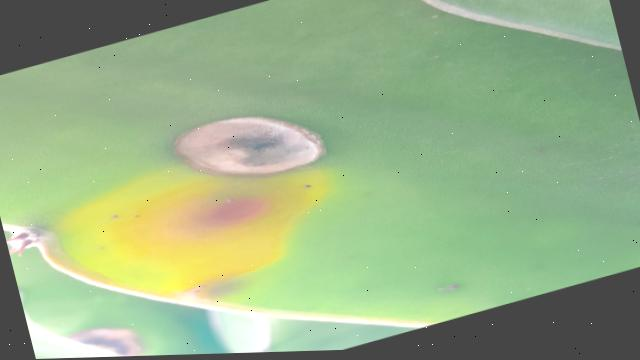stemcanker: (58, 164, 331, 301), (171, 116, 330, 180)
